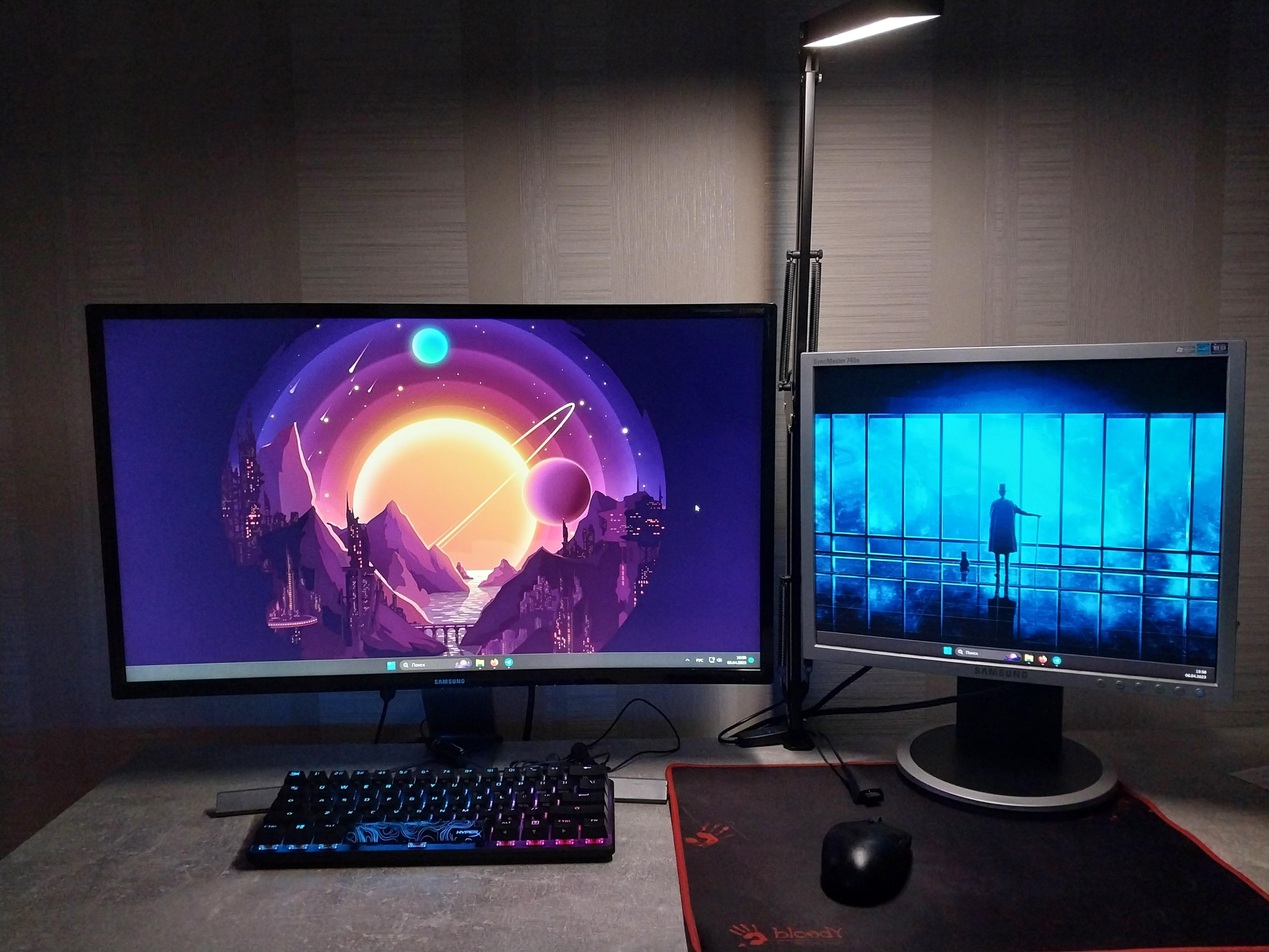monitor: (79, 292, 782, 697), (799, 328, 1253, 740)
